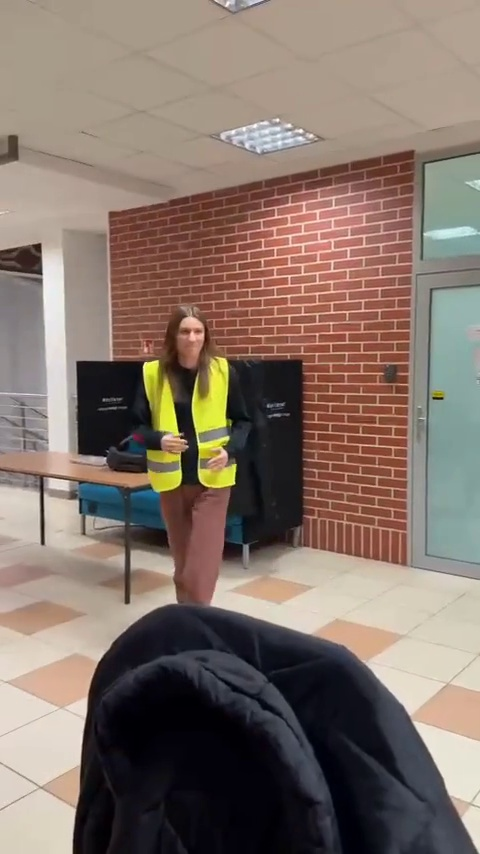vest: (132, 304, 253, 614)
